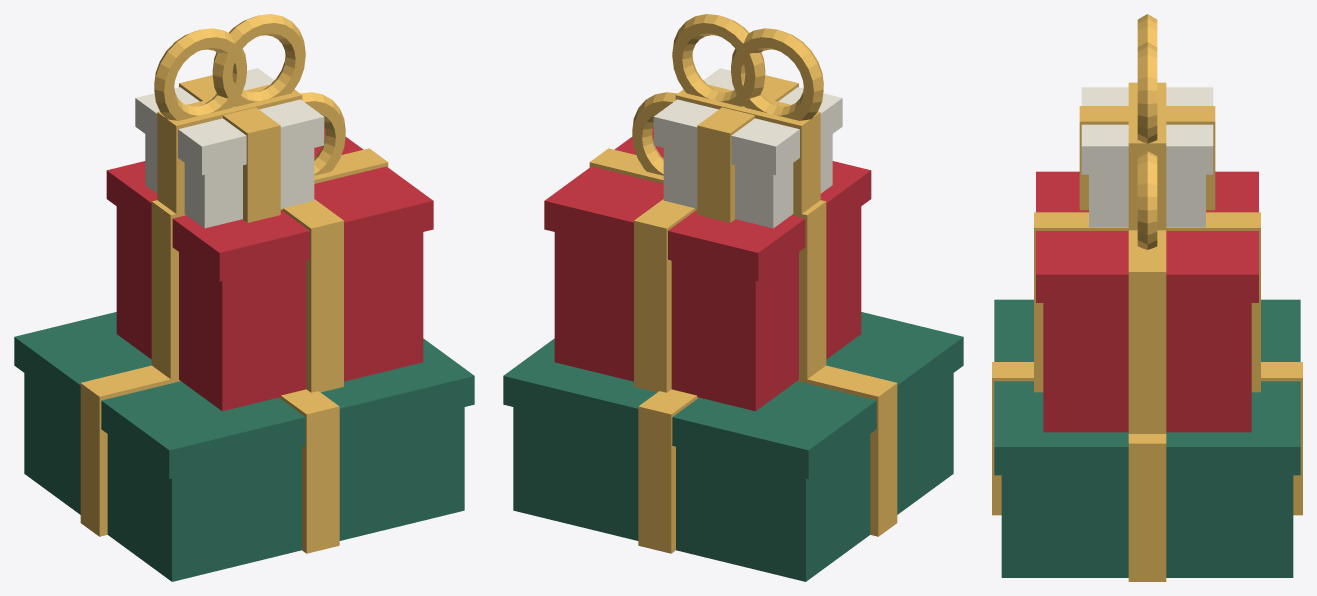
Rendered from north-pole-village-gift-stack-59c9933e__25417.glb.
The picture shows the model from 3 angles, left to right: view 1: azimuth 30°, elevation 25°; view 2: azimuth 150°, elevation 25°; view 3: azimuth 270°, elevation 25°; orthographic projection.
Visible parts, largest first — view 1: gift-stack; view 2: gift-stack; view 3: gift-stack.
Part boxes in pixels (x1,y1,x2,y2): gift-stack: (14, 14, 474, 581); gift-stack: (503, 14, 963, 581); gift-stack: (992, 14, 1302, 581).
Bounding box in the file's own units: 0.845 × 1.24 × 0.745.
